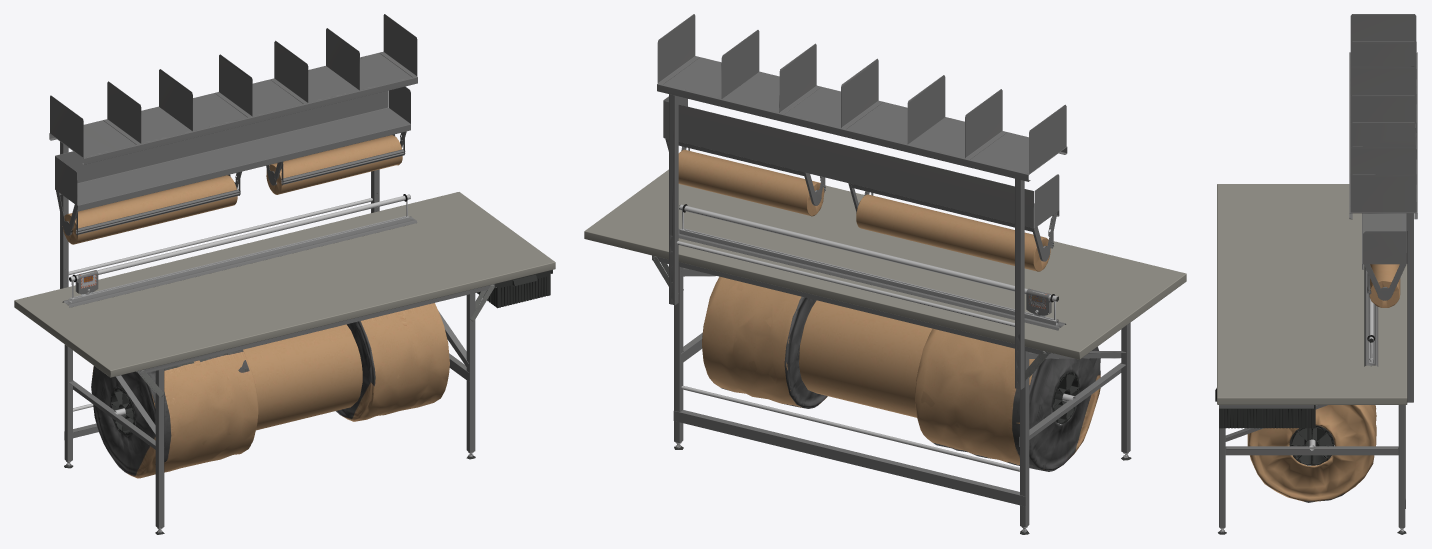
The model's file is packing_table.glb.
3 views of the same model, side by side, from view 1: azimuth 30°, elevation 25°; view 2: azimuth 150°, elevation 25°; view 3: azimuth 270°, elevation 25° (orthographic). The views are drawn at different scales.
Visible parts, largest first — view 1: packing_table_mesh; view 2: packing_table_mesh; view 3: packing_table_mesh.
Part boxes in pixels (bbox=[...]): packing_table_mesh: bbox=[14, 14, 555, 534]; packing_table_mesh: bbox=[584, 14, 1186, 534]; packing_table_mesh: bbox=[1215, 14, 1417, 534].
Bounding box in the file's own units: 2.44 × 1.93 × 0.9746.
Materials: 10 (4 with a texture image).
